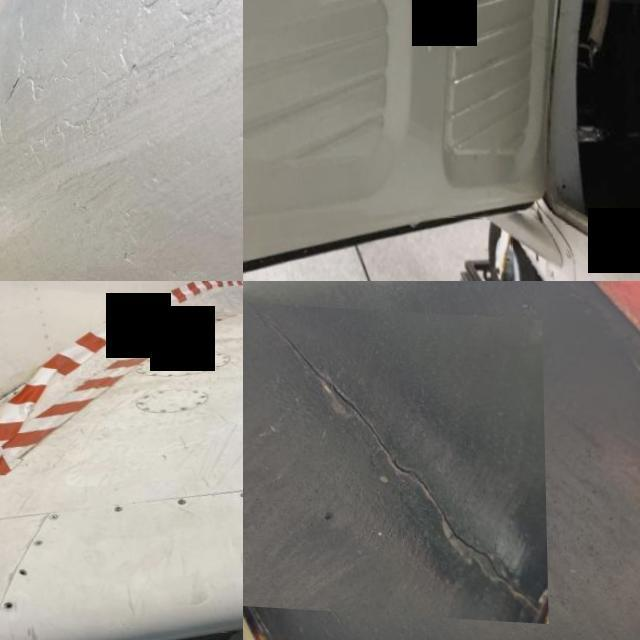Crack: (243, 299, 546, 618), (0, 368, 35, 436)
Missing_Fastener: (0, 598, 12, 607), (16, 566, 26, 574)
